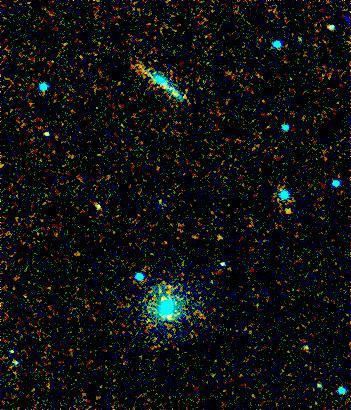star: (273, 197, 303, 227)
